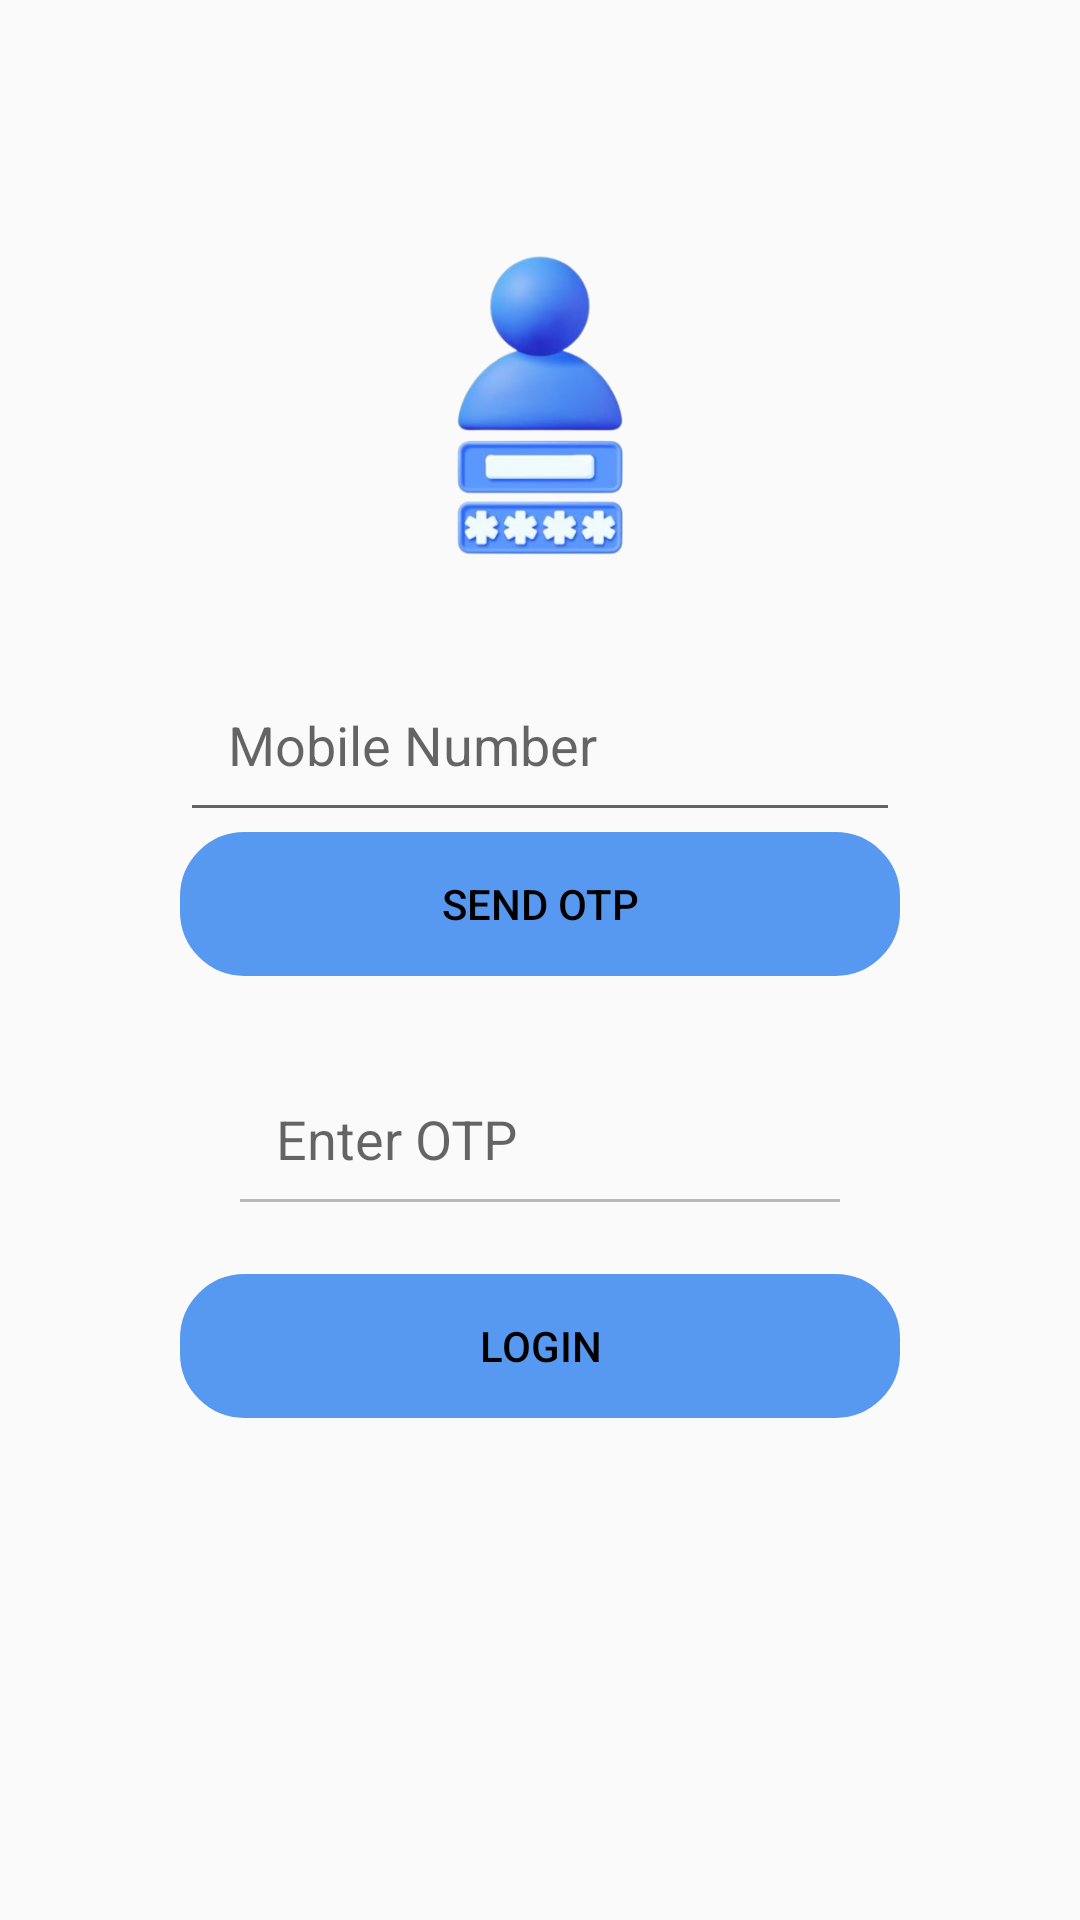

Locate icon controls on the screen. Image size 1080x1920, boxes as box=[x1, y1, x2, y2].
loginicon: box=[457, 256, 623, 554]
